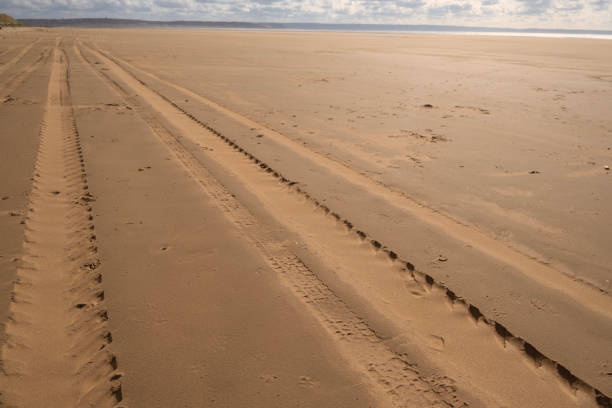vehicle_track: (140, 89, 609, 405), (91, 44, 611, 317), (75, 48, 465, 407), (0, 44, 121, 407), (0, 47, 52, 102), (0, 38, 40, 73)
